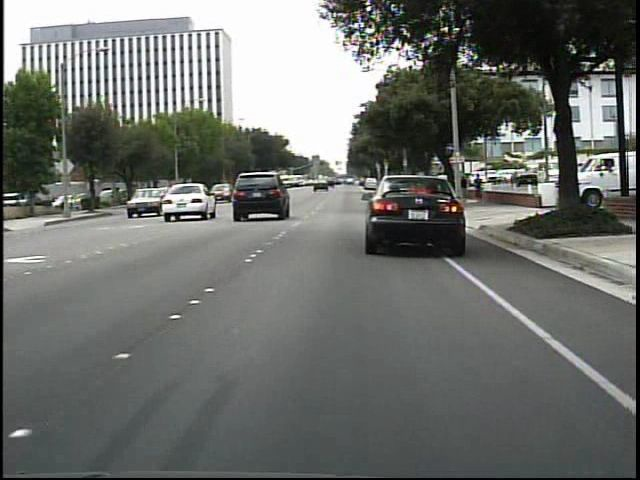person: (473, 173, 485, 202), (461, 174, 472, 203)
